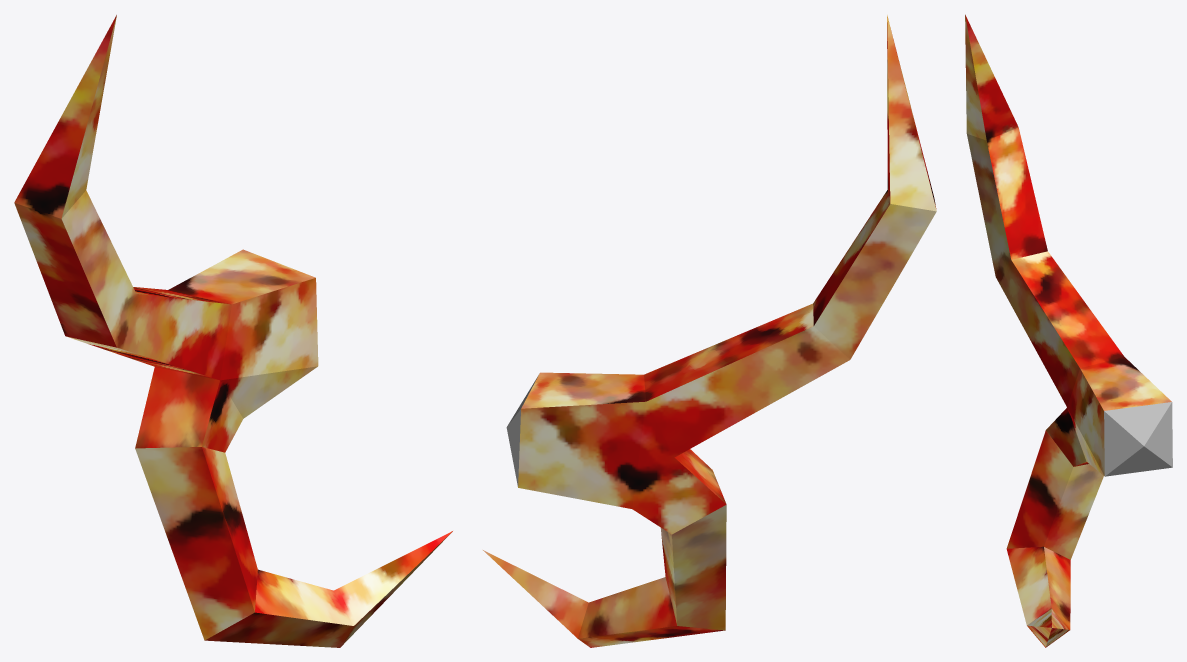
File: RightAntler3.fbx
The picture shows the model from 3 angles, left to right: view 1: azimuth 30°, elevation 25°; view 2: azimuth 150°, elevation 25°; view 3: azimuth 270°, elevation 25°; orthographic projection. The views are drawn at different scales.
Visible parts, largest first — view 1: BigRightAntler3; view 2: BigRightAntler3; view 3: BigRightAntler3.
Boxes of the visible parts, left/top/right/bottom form: BigRightAntler3: left=14, top=15, right=452, bottom=647; BigRightAntler3: left=483, top=15, right=936, bottom=647; BigRightAntler3: left=965, top=14, right=1172, bottom=647.
Size of the model in its own units: 515 by 767 by 270.
